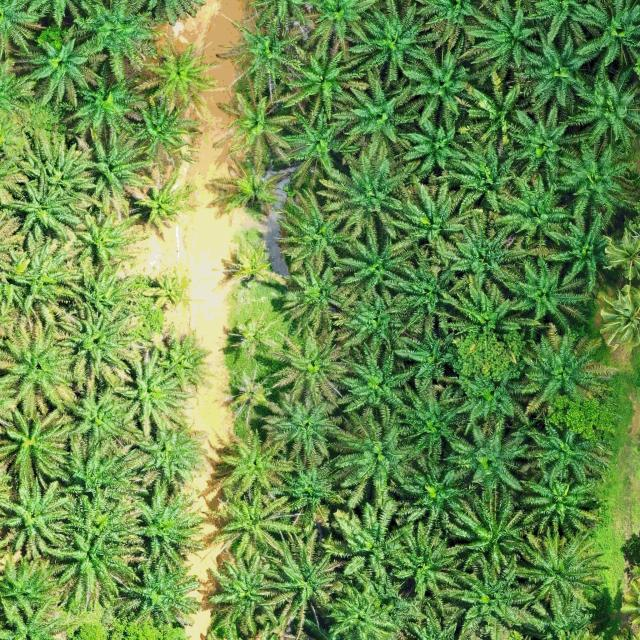Tree: (514, 316, 624, 416), (382, 368, 486, 465), (70, 123, 168, 224), (434, 544, 537, 640), (211, 11, 317, 104), (258, 531, 346, 640), (510, 524, 610, 618), (329, 404, 419, 507), (0, 314, 85, 422), (258, 318, 354, 413), (59, 62, 158, 152), (442, 490, 531, 587), (318, 495, 418, 581), (388, 180, 484, 269), (504, 248, 602, 334), (436, 266, 546, 342), (212, 85, 302, 177), (45, 518, 131, 614), (317, 150, 406, 242), (111, 347, 198, 441), (66, 0, 164, 83), (7, 27, 106, 108), (210, 482, 305, 566), (437, 412, 530, 497), (519, 408, 615, 490), (514, 26, 605, 112), (49, 304, 142, 388), (446, 55, 527, 150), (329, 213, 418, 299), (6, 229, 84, 327), (334, 72, 420, 160), (384, 448, 476, 530), (441, 211, 532, 292), (544, 202, 624, 294), (104, 552, 202, 627), (120, 481, 206, 566), (347, 0, 432, 86), (554, 135, 639, 220), (2, 161, 88, 245), (133, 39, 220, 121), (260, 388, 349, 467), (510, 462, 600, 540), (565, 57, 640, 149), (275, 106, 363, 184), (0, 470, 73, 564), (7, 124, 101, 196), (444, 125, 518, 216), (335, 334, 417, 416), (396, 40, 475, 125), (504, 105, 582, 190), (280, 38, 365, 116), (52, 428, 140, 503), (274, 189, 352, 272), (267, 450, 350, 526), (0, 402, 67, 495), (498, 168, 582, 242), (326, 282, 413, 352), (385, 524, 462, 602), (460, 1, 540, 76), (388, 314, 467, 388), (206, 554, 274, 639), (394, 102, 469, 178), (388, 248, 464, 322), (217, 430, 294, 501), (280, 259, 350, 336), (123, 420, 204, 484), (209, 226, 286, 292), (571, 0, 640, 72), (452, 364, 524, 433), (207, 154, 285, 217), (64, 205, 138, 269), (326, 578, 399, 640), (126, 96, 201, 156), (60, 380, 130, 444), (60, 265, 142, 319), (126, 168, 191, 234), (224, 365, 278, 426), (224, 312, 288, 362), (597, 283, 640, 348), (138, 268, 188, 317), (605, 224, 640, 282)
